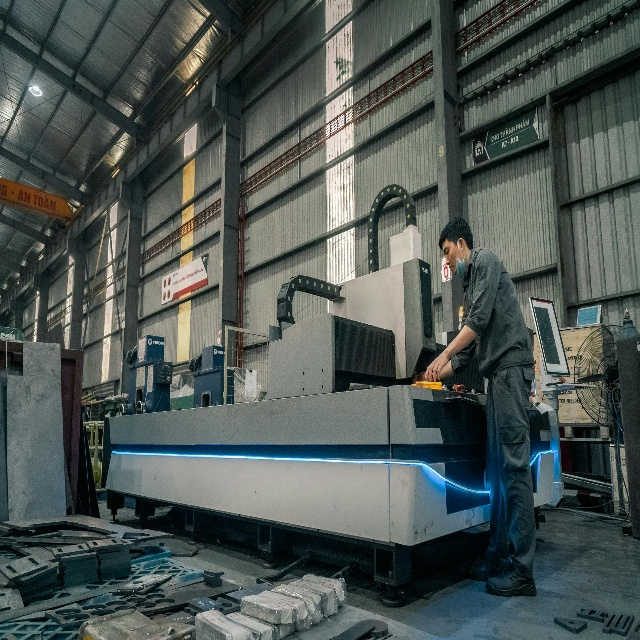Mascara: (455, 244, 466, 279)
Sin_guantes: (425, 350, 448, 382), (412, 370, 426, 384)
